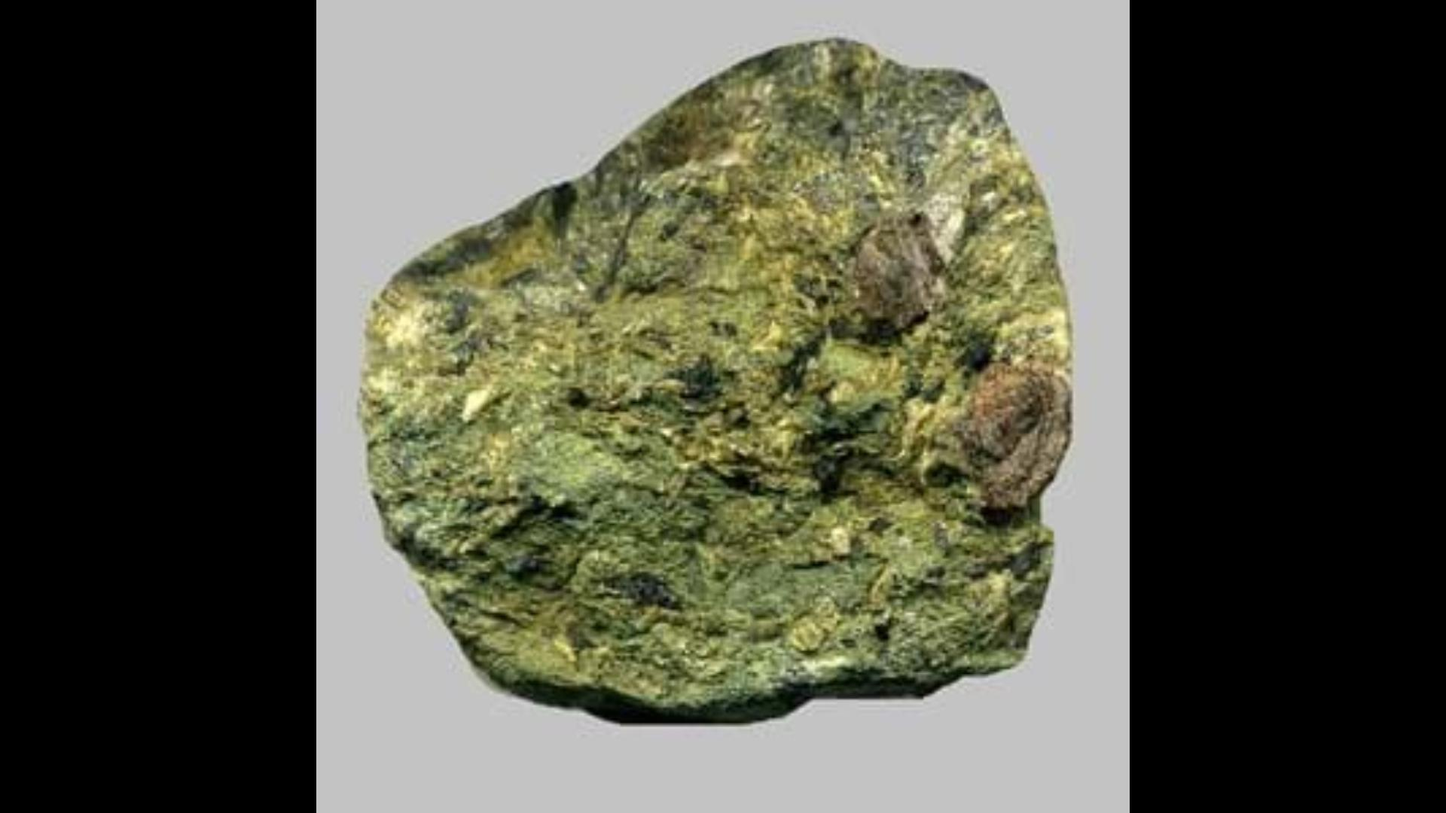rock: (371, 41, 1070, 718)
